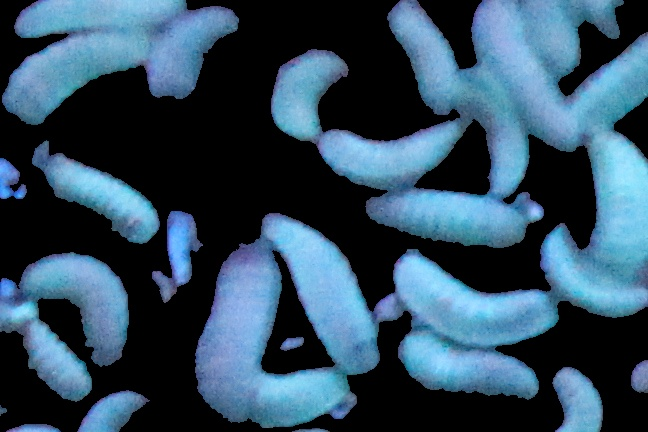larvae: (261, 213, 378, 371), (471, 1, 578, 155), (197, 240, 283, 423), (1, 29, 152, 126), (396, 252, 559, 338), (19, 250, 129, 368), (32, 155, 155, 245), (317, 116, 465, 188), (582, 130, 648, 286), (541, 223, 648, 315), (367, 189, 529, 248), (148, 9, 245, 106), (398, 333, 539, 399), (459, 70, 529, 195), (383, 4, 459, 116), (576, 32, 647, 131), (272, 47, 348, 139), (16, 1, 187, 38), (253, 368, 350, 425), (19, 325, 92, 400), (544, 364, 609, 432), (525, 1, 579, 76)
